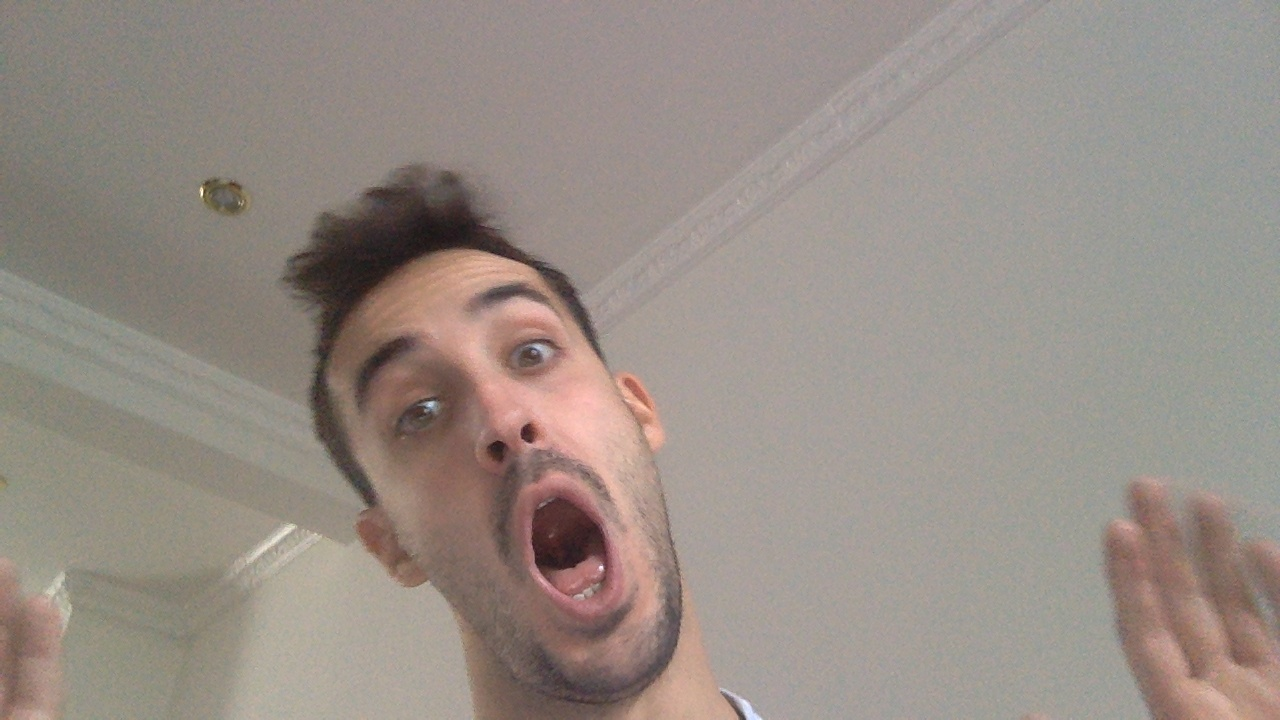surprise: (506, 471, 638, 625)
